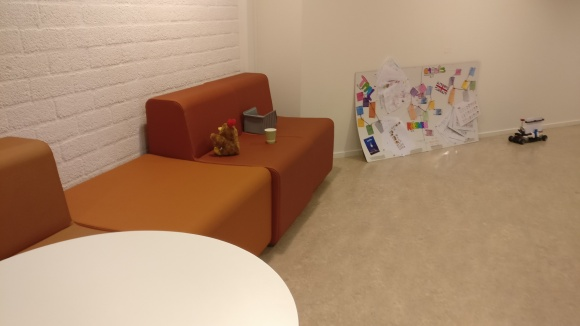car: (509, 114, 551, 146)
chicken: (209, 117, 242, 157)
cup: (263, 126, 276, 144)
